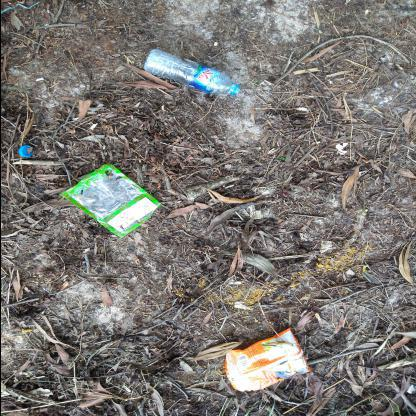plastik: (60, 163, 162, 239), (225, 328, 311, 393), (145, 49, 242, 97), (19, 147, 33, 159)
